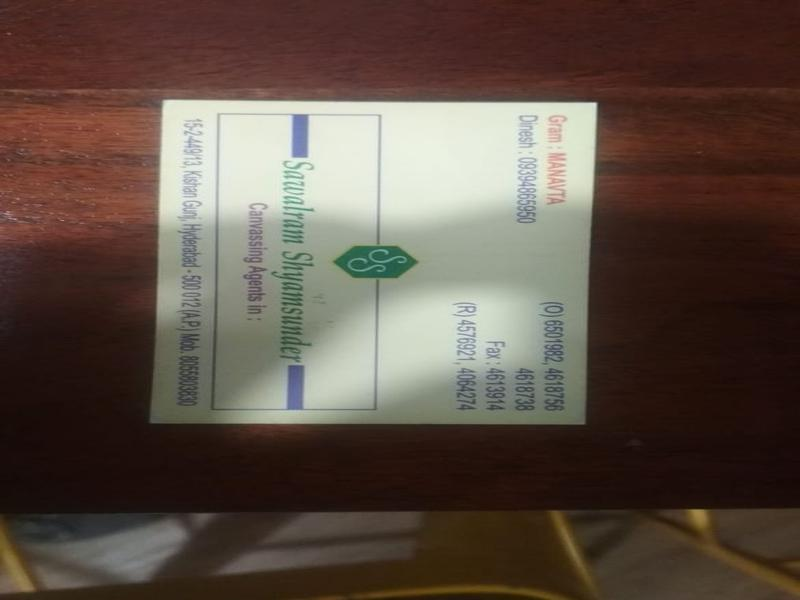card: (147, 99, 598, 426)
